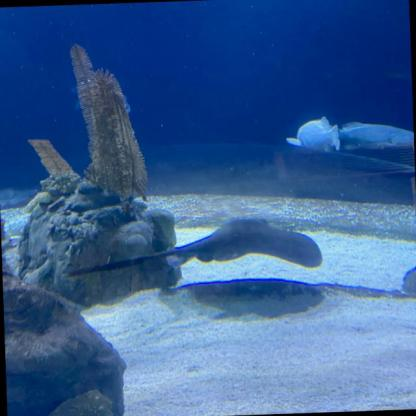fish: (341, 119, 414, 157), (284, 118, 341, 156)
stingray: (176, 210, 323, 268)
